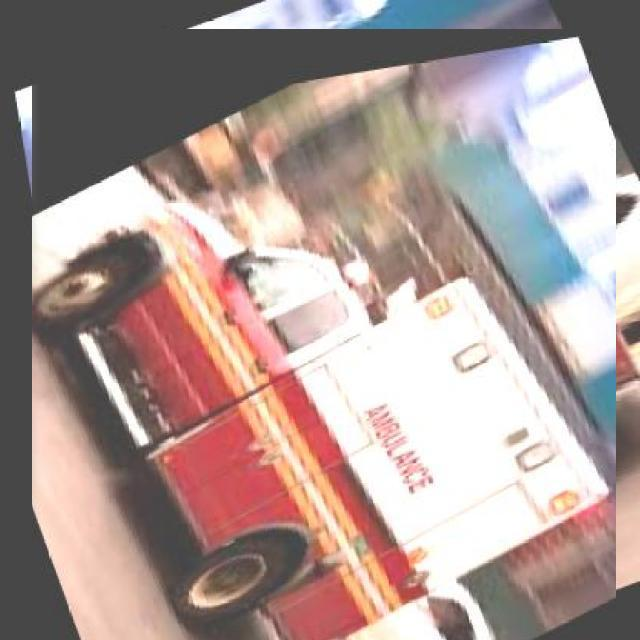emergency-vehicle: (19, 41, 628, 640)
